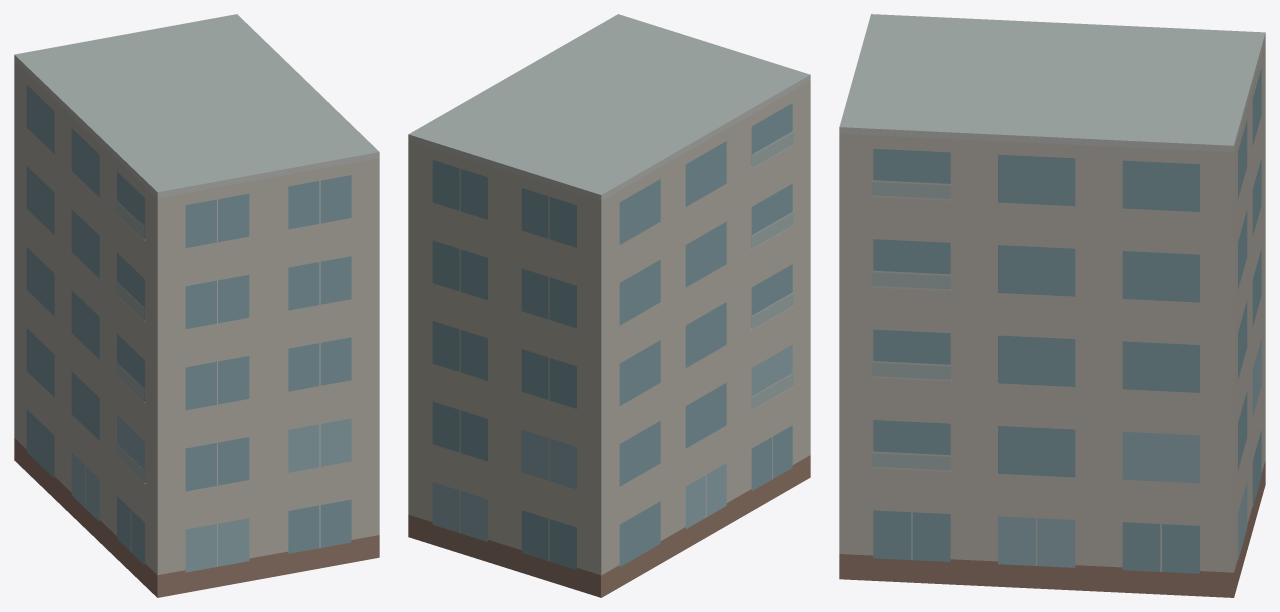
Rendered from survey-upis-32993786.glb.
3 views of the same model, side by side, from view 1: azimuth 30°, elevation 25°; view 2: azimuth 150°, elevation 25°; view 3: azimuth 270°, elevation 25° (orthographic). The views are drawn at different scales.
Parts seen in each view (by area): view 1: survey-upis-32993786.tmp; view 2: survey-upis-32993786.tmp; view 3: survey-upis-32993786.tmp.
Boxes of the visible parts, x1,y1,x2,y2 form: survey-upis-32993786.tmp: (14,14,379,597); survey-upis-32993786.tmp: (408,14,810,597); survey-upis-32993786.tmp: (839,14,1265,597).
Bounding box in the file's own units: 10.45 × 16.7 × 14.28.
